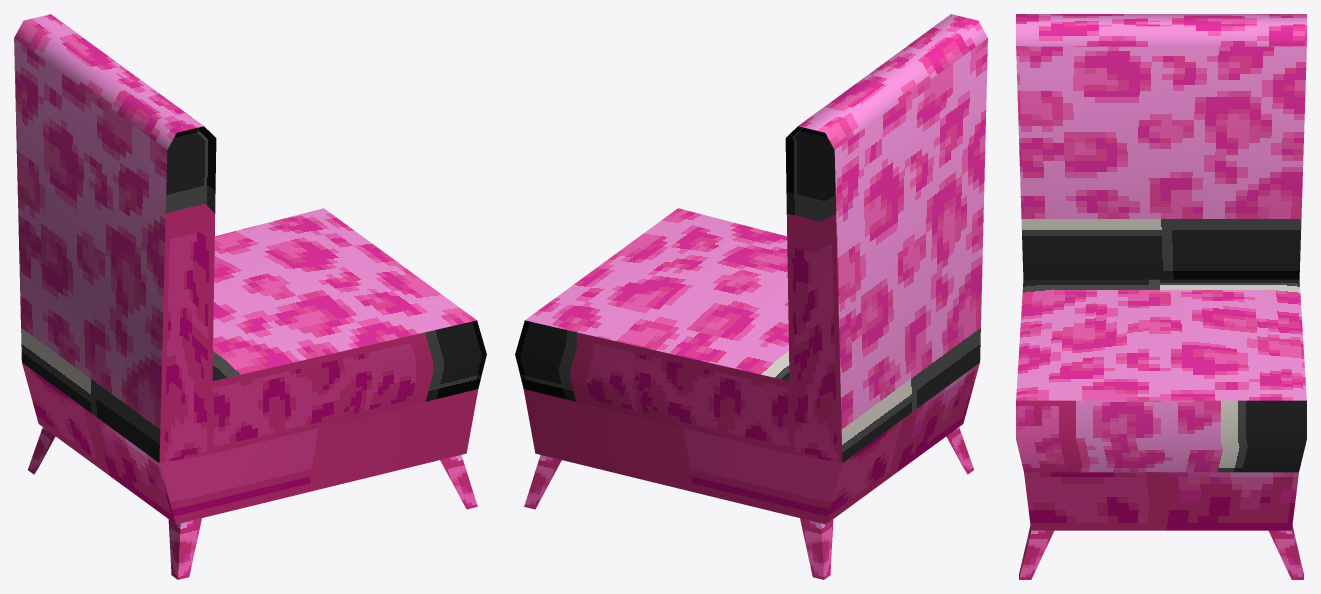
The picture shows the model from 3 angles, left to right: view 1: azimuth 30°, elevation 25°; view 2: azimuth 150°, elevation 25°; view 3: azimuth 270°, elevation 25°; orthographic projection. The views are drawn at different scales.
Parts seen in each view (by area): view 1: 3565kg_06_isu; view 2: 3565kg_06_isu; view 3: 3565kg_06_isu.
Boxes of the visible parts, x1,y1,x2,y2 form: 3565kg_06_isu: (14, 14, 486, 579); 3565kg_06_isu: (515, 14, 987, 579); 3565kg_06_isu: (1016, 14, 1306, 579).
Size of the model in its own units: 0.7825 by 1.05 by 0.6499.
Materials: 1 (1 with a texture image).
